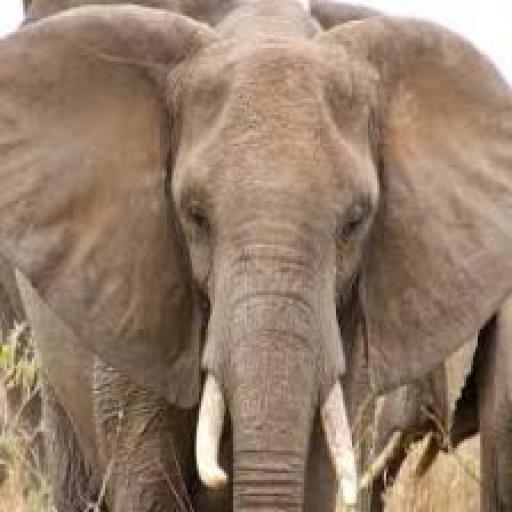Elephant: (2, 0, 510, 510)
